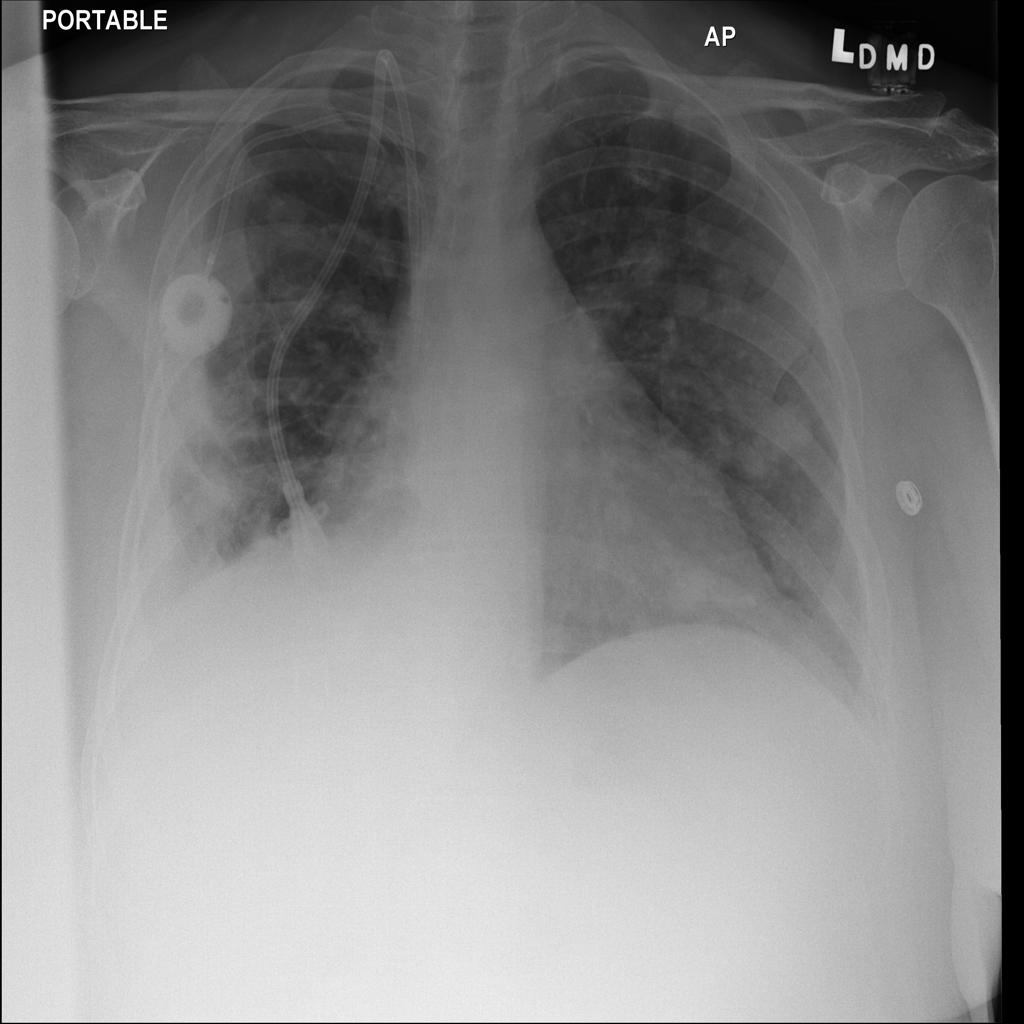nodule: (715, 381, 825, 495), (649, 553, 727, 629), (613, 223, 684, 298), (254, 178, 327, 249), (588, 478, 650, 556), (652, 267, 723, 334)
